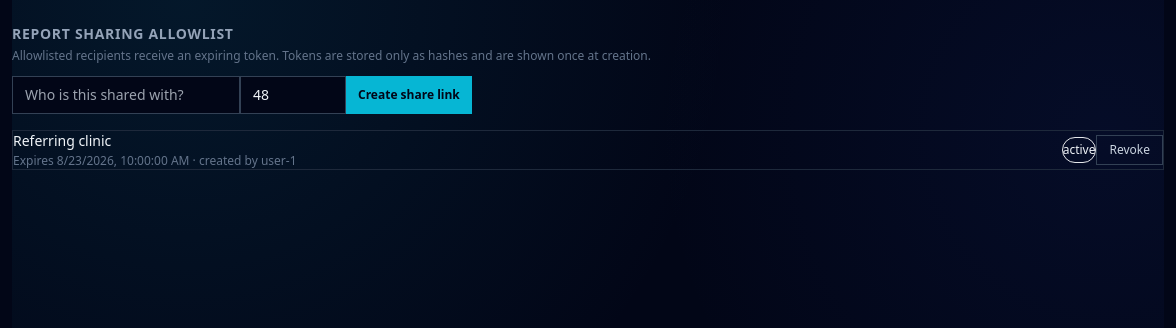
Scenario: report share panel › revokes an active share and reflects the new state
Step 1. Click the button "Revoke" → (1130, 150), box [1096,135,1163,165]
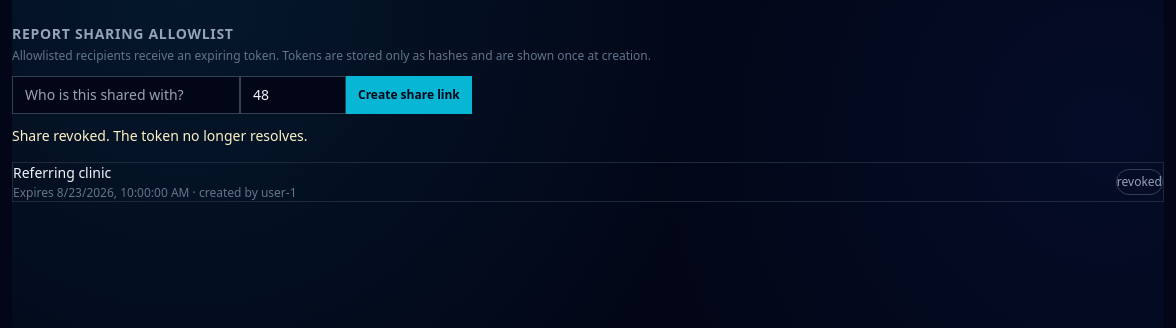
Expected: the text "Share revoked. The token no longer resolves." is shown, [12,126,308,145]
